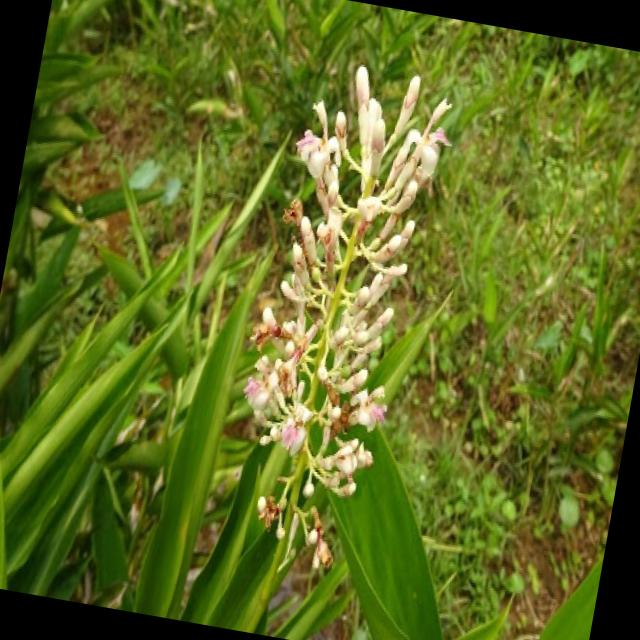Aquatic-Ginger: (210, 51, 460, 580)
